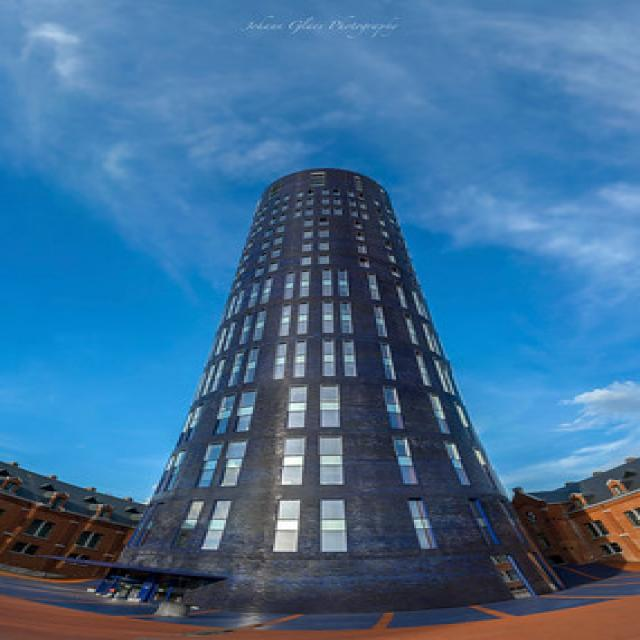Normal_building: (103, 161, 575, 607)
